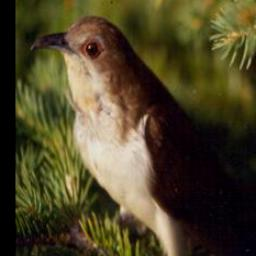Cuckoo: (30, 13, 256, 256)
